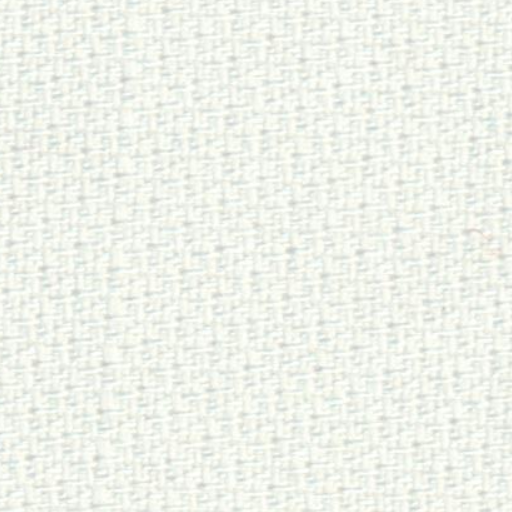TuoSha: (72, 8, 168, 497)
